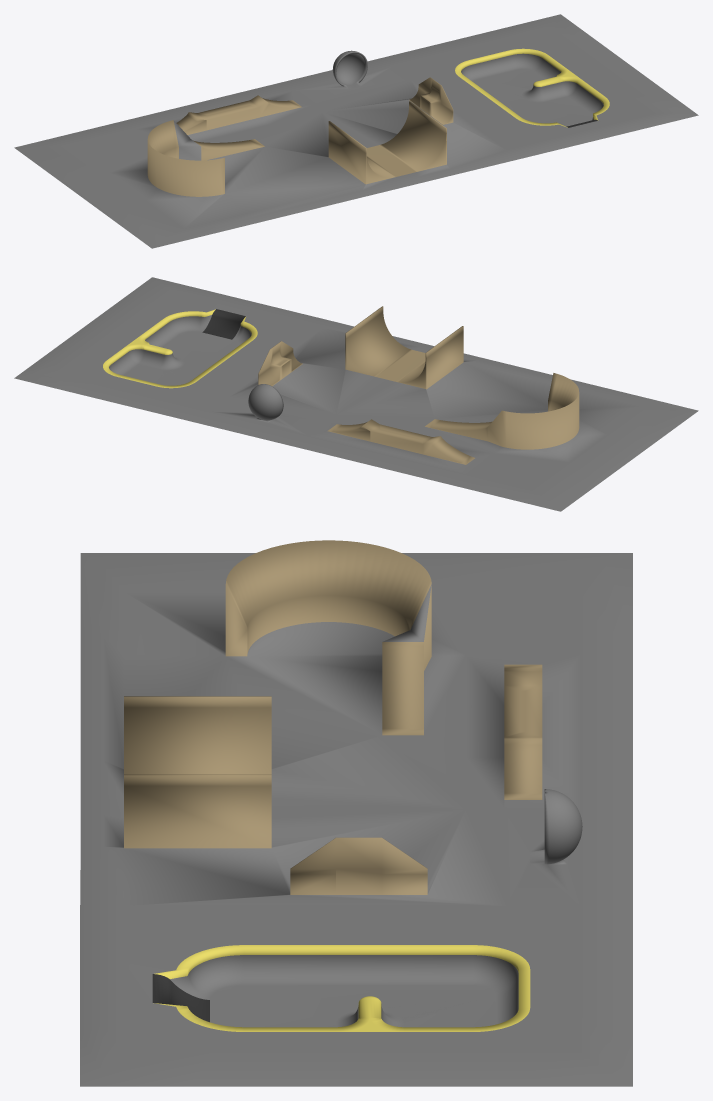
The model's file is skatepark 7.fbx.
The picture shows the model from 3 angles, top to bottom: view 1: azimuth 30°, elevation 25°; view 2: azimuth 150°, elevation 25°; view 3: azimuth 270°, elevation 25°; orthographic projection. The views are drawn at different scales.
Parts seen in each view (by area): view 1: Plane.006; view 2: Plane.006; view 3: Plane.006.
Part boxes in pixels (x1,y1,x2,y2): Plane.006: (14,14,698,248); Plane.006: (14,277,698,511); Plane.006: (80,540,632,1086).
Size of the model in its own units: 110 by 9.5 by 48.33.
